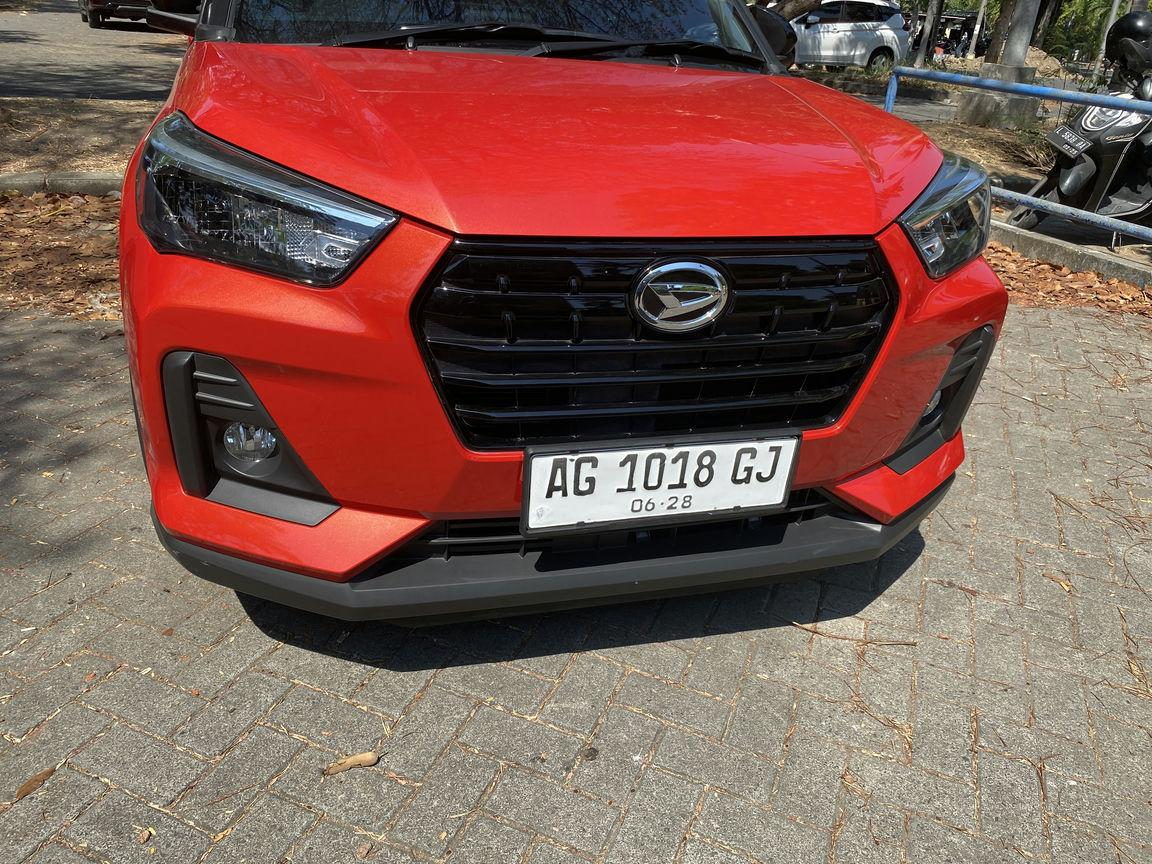plat: (525, 437, 799, 531)
